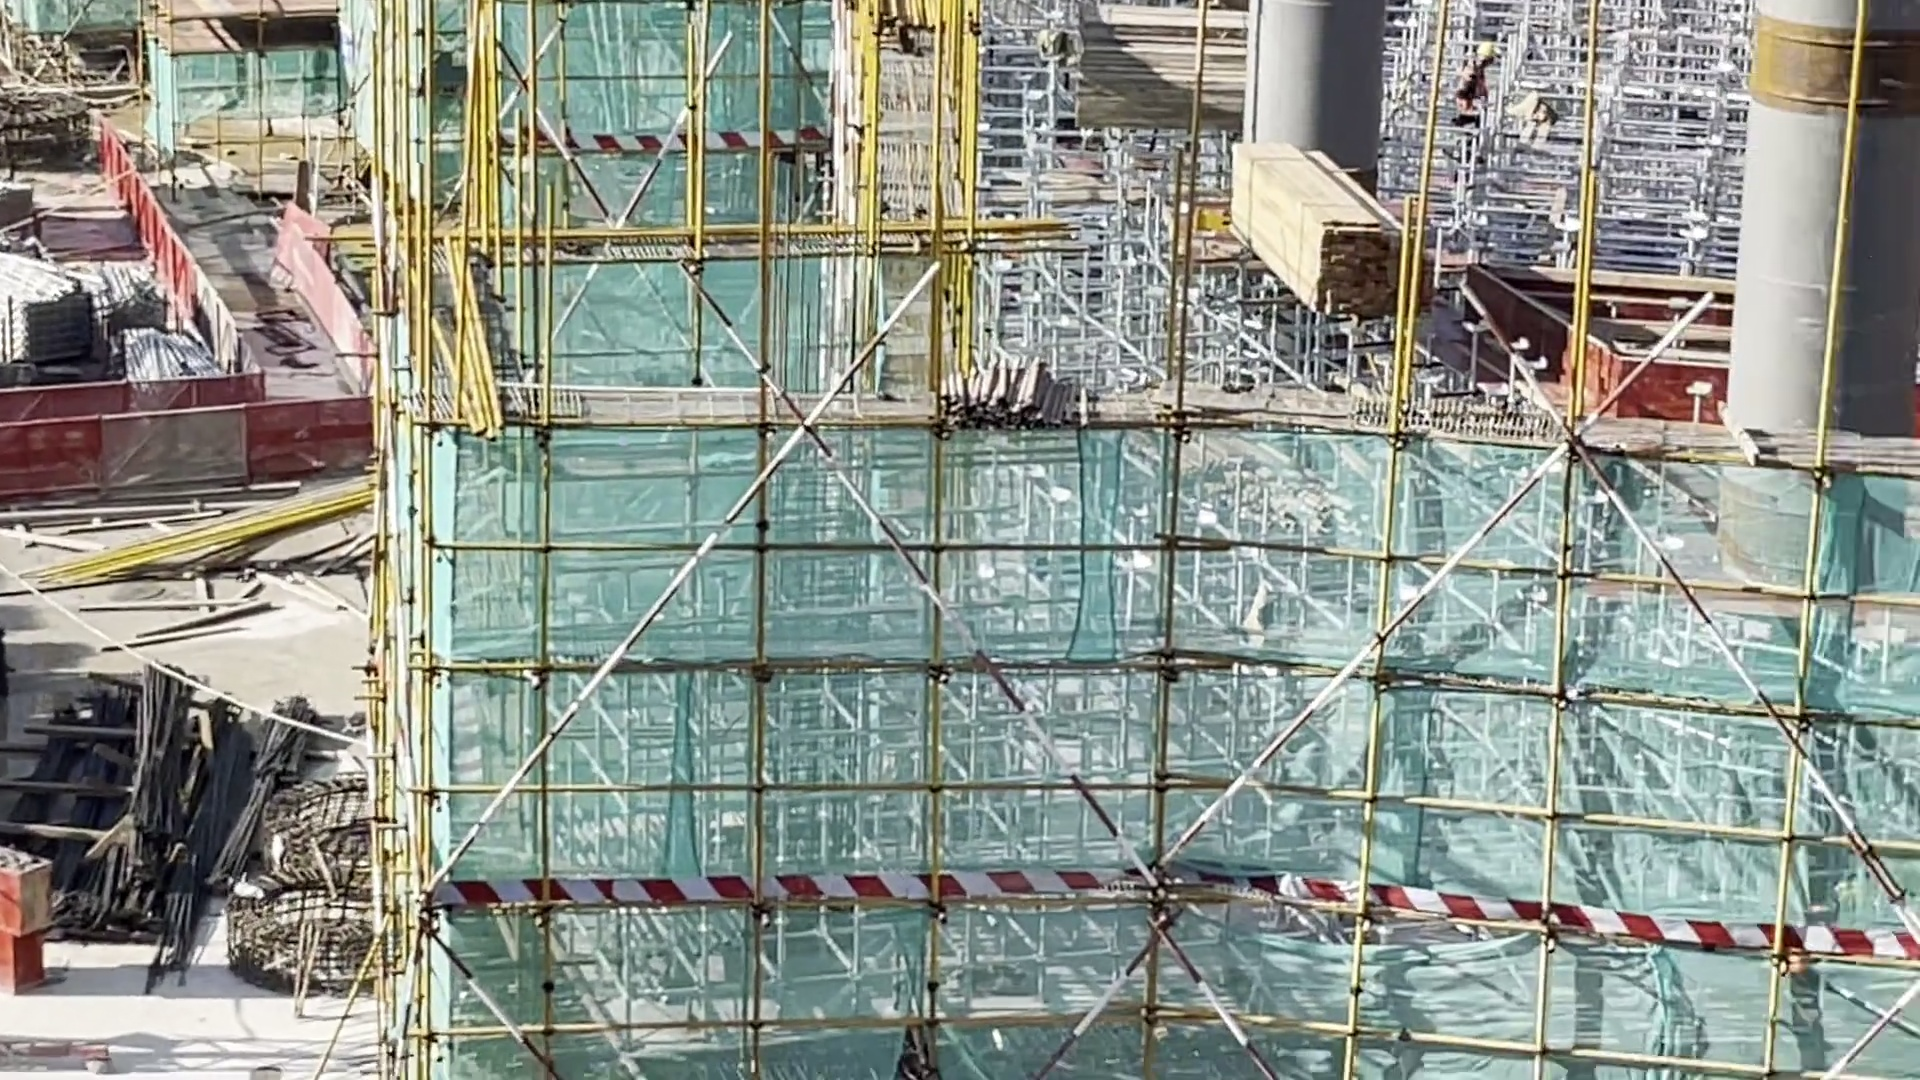wood: (1211, 116, 1411, 326)
